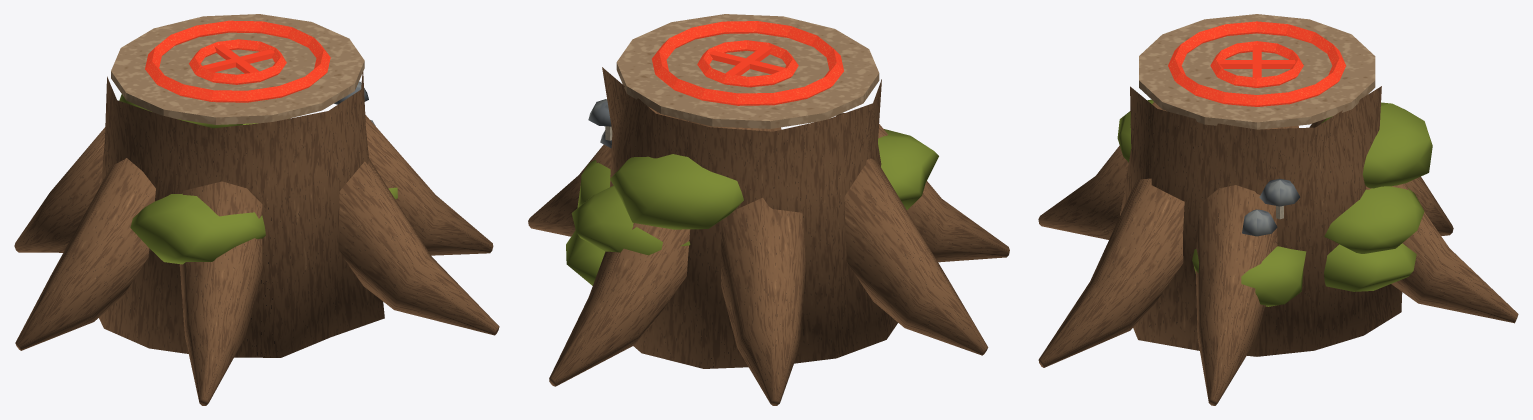
Rendered from cursed_stump.glb.
3 renders of one model, left to right at view 1: azimuth 30°, elevation 25°; view 2: azimuth 150°, elevation 25°; view 3: azimuth 270°, elevation 25°, orthographic. The views are drawn at different scales.
Visible parts, largest first — view 1: cursed_stump_stump, cursed_stump_runes, cursed_stump_moss_shrooms; view 2: cursed_stump_stump, cursed_stump_moss_shrooms, cursed_stump_runes; view 3: cursed_stump_stump, cursed_stump_moss_shrooms, cursed_stump_runes.
Boxes of the visible parts, x1,y1,x2,y2 form: cursed_stump_stump: (14, 14, 499, 405); cursed_stump_runes: (145, 20, 330, 102); cursed_stump_moss_shrooms: (119, 81, 397, 264); cursed_stump_stump: (528, 14, 1009, 405); cursed_stump_moss_shrooms: (566, 99, 938, 285); cursed_stump_runes: (652, 21, 843, 105); cursed_stump_stump: (1038, 14, 1518, 405); cursed_stump_moss_shrooms: (1117, 99, 1432, 306); cursed_stump_runes: (1168, 21, 1345, 106).
Size of what is drawn, in the model's own units: 2.2 by 1.1 by 2.
6 materials, 6 textured.
